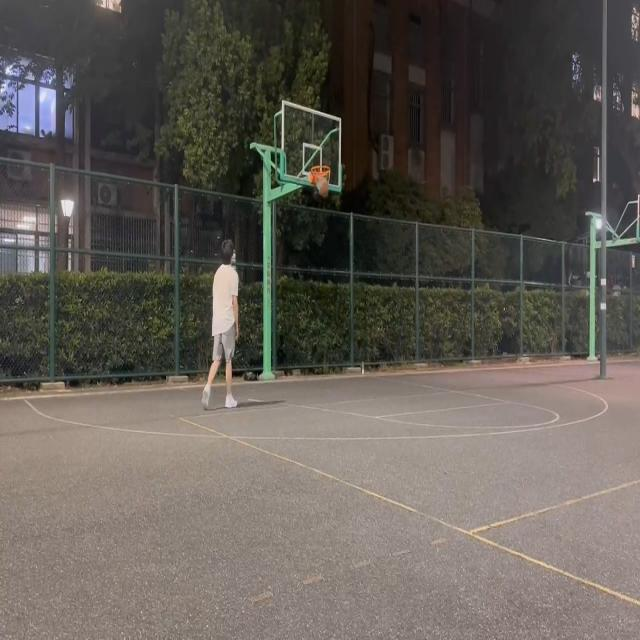basketball: (310, 165, 331, 199)
rim: (319, 179, 329, 197)
